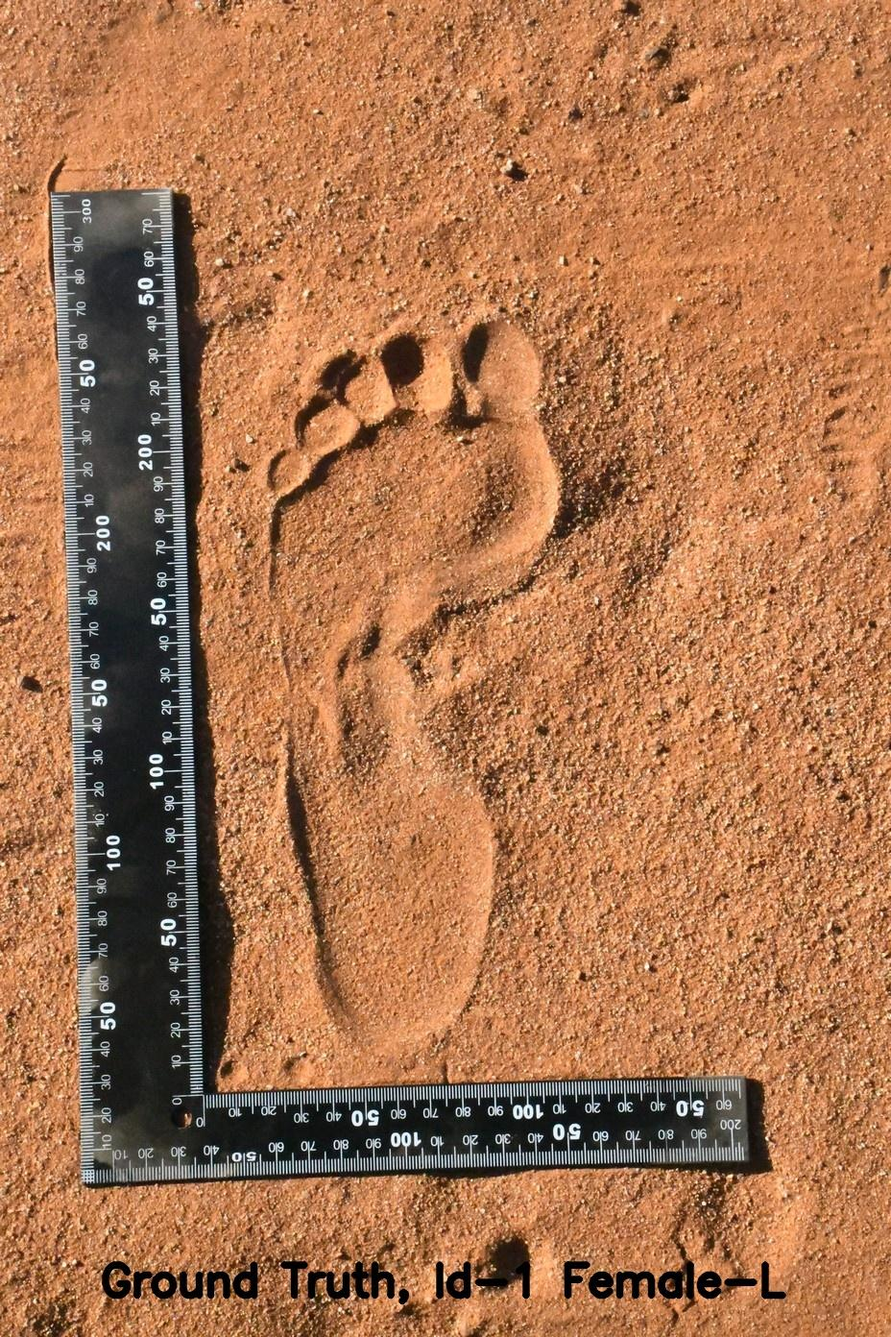human_footprint: (221, 257, 660, 1053)
